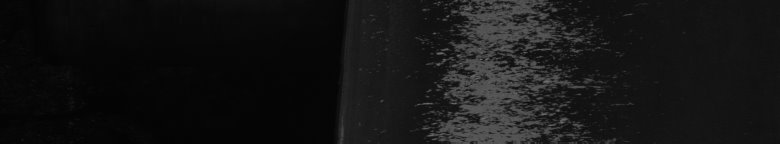kb: (456, 4, 548, 136)
